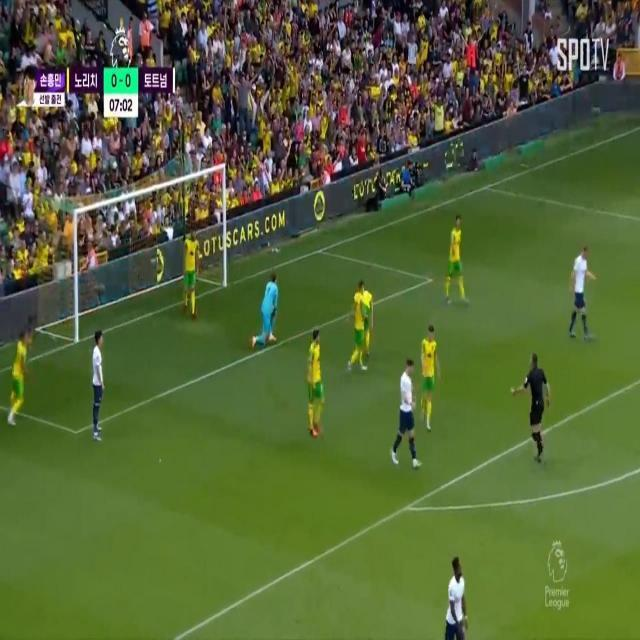goalkeeper: (251, 261, 283, 355)
player: (306, 328, 326, 437), (397, 361, 417, 467), (571, 250, 592, 331), (450, 554, 468, 640), (90, 329, 104, 437), (422, 323, 437, 419), (185, 225, 198, 319), (353, 280, 366, 373), (450, 216, 463, 308), (13, 333, 26, 423), (362, 286, 375, 362)
referee: (524, 358, 546, 452)
